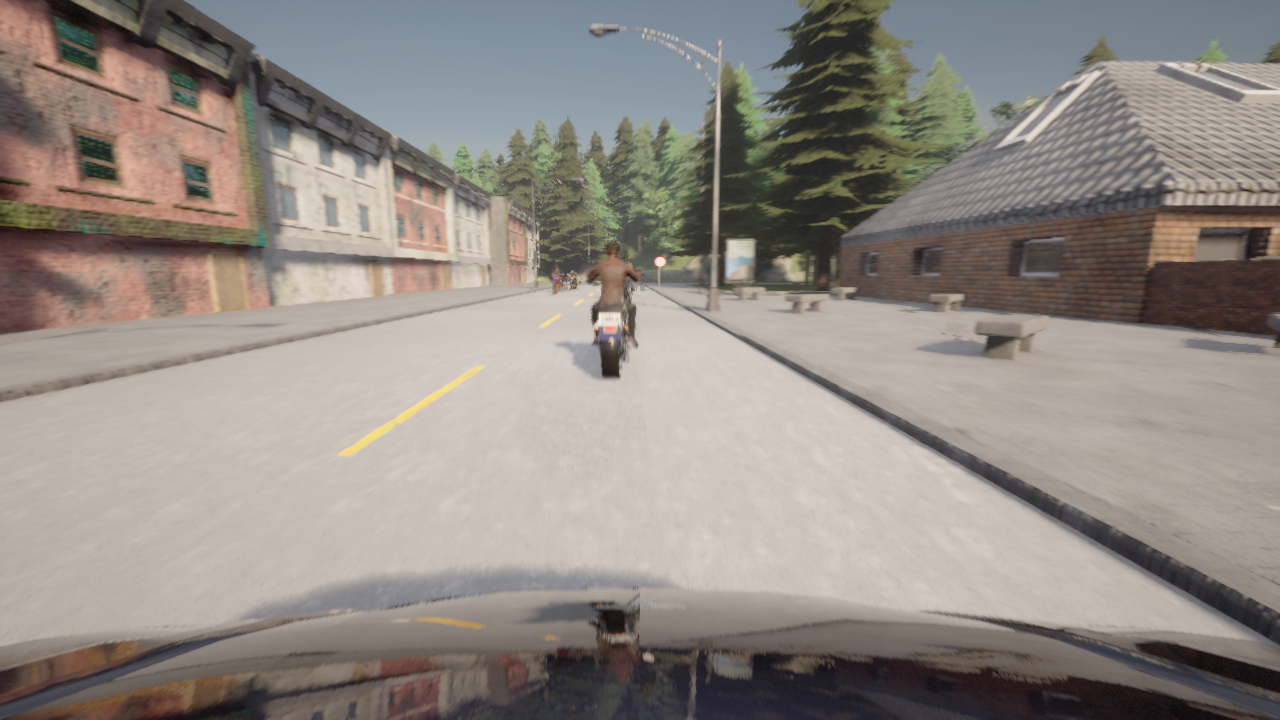cyclist: (0, 588, 1279, 719), (586, 268, 642, 376), (567, 274, 577, 289), (693, 276, 710, 282), (628, 283, 633, 300), (558, 276, 563, 291), (554, 277, 558, 291)
